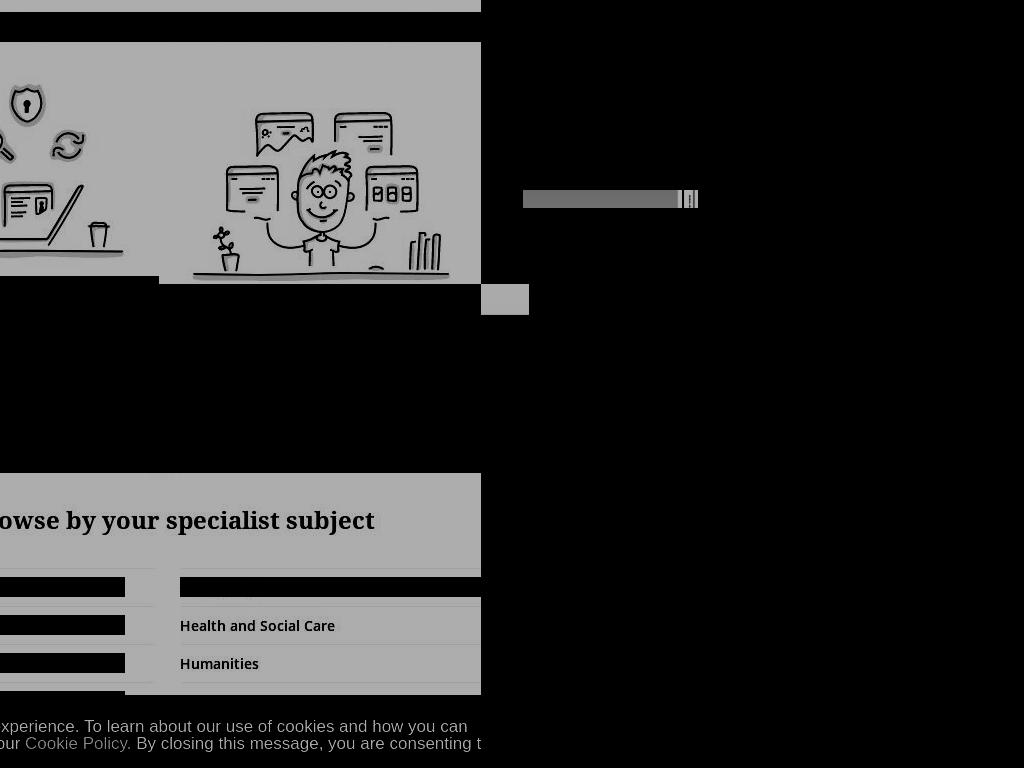button: (481, 546, 1024, 694), (485, 338, 657, 375)
field: (0, 284, 436, 304), (439, 284, 481, 303)
heading: (481, 0, 806, 118), (0, 507, 481, 536)
iframe: (481, 0, 1024, 284), (529, 284, 1024, 315)
image: (481, 315, 1024, 768), (0, 284, 481, 473), (485, 338, 657, 375)
link: (180, 577, 481, 597), (180, 615, 481, 635), (180, 653, 481, 673), (180, 691, 481, 711), (180, 729, 481, 749), (895, 341, 994, 371), (0, 577, 125, 597), (0, 615, 125, 635), (0, 653, 125, 673), (0, 691, 125, 711), (0, 729, 125, 749), (721, 341, 790, 371), (25, 734, 133, 753), (810, 341, 876, 371), (129, 313, 225, 331), (987, 9, 1024, 24), (987, 215, 1024, 230)
text: (0, 717, 468, 753), (0, 734, 481, 768), (481, 134, 842, 174), (0, 12, 481, 42), (481, 704, 1024, 728), (0, 369, 481, 394), (523, 190, 698, 208), (987, 230, 1024, 248)
